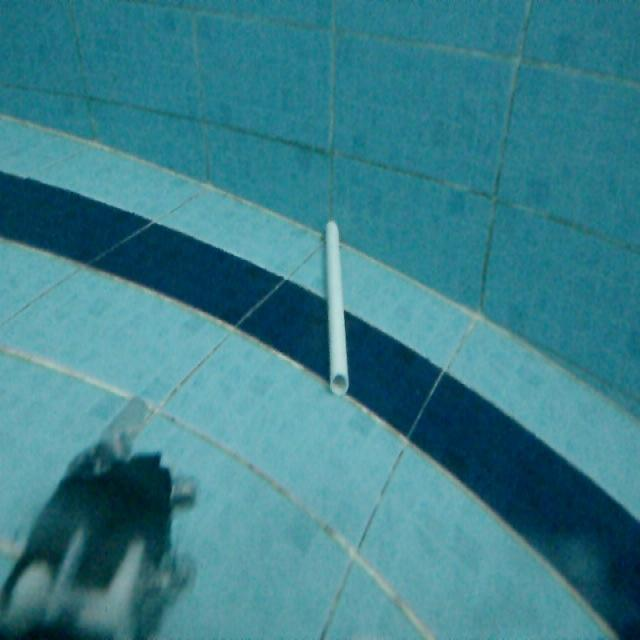Cube: (320, 215, 352, 397)
